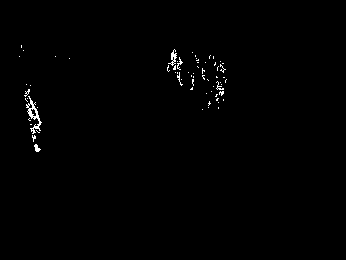person: (20, 83, 44, 154), (168, 46, 184, 85)
